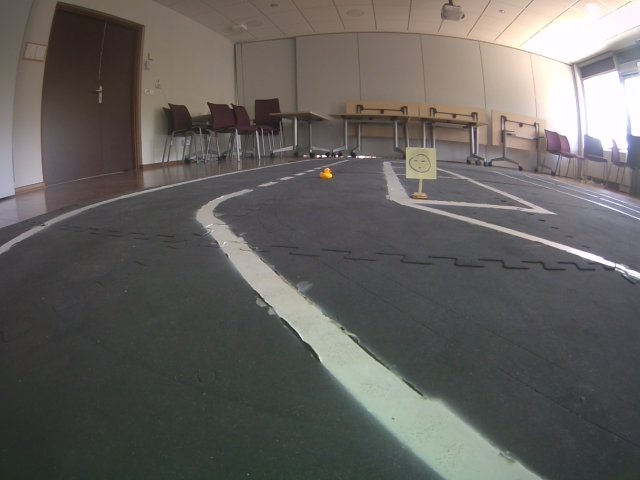Smiley: (404, 146, 438, 181)
